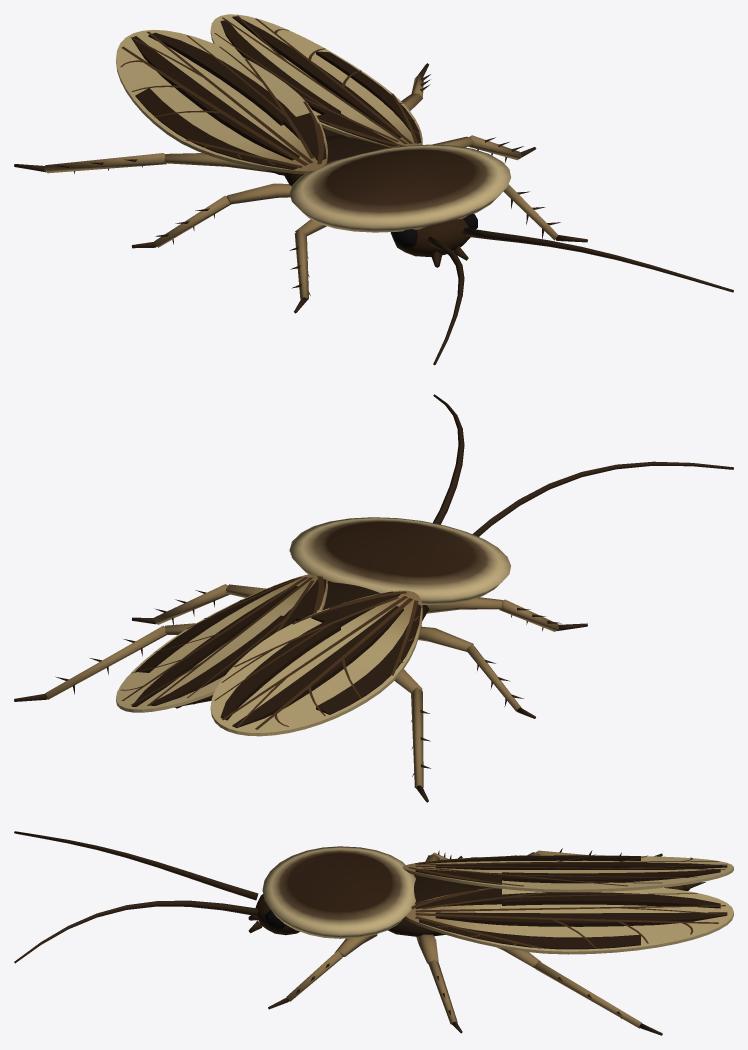
File: Sysciophlebia.fbx
3 views of the same model, one above another, from view 1: azimuth 30°, elevation 25°; view 2: azimuth 150°, elevation 25°; view 3: azimuth 270°, elevation 25° (orthographic). The views are drawn at different scales.
Parts seen in each view (by area): view 1: Sysciophlebia; view 2: Sysciophlebia; view 3: Sysciophlebia.
Part boxes in pixels (bbox=[...]): Sysciophlebia: bbox=[14, 14, 733, 365]; Sysciophlebia: bbox=[14, 394, 733, 802]; Sysciophlebia: bbox=[14, 831, 733, 1035].
Bounding box in the file's own units: 0.8243 × 0.1573 × 1.39.
